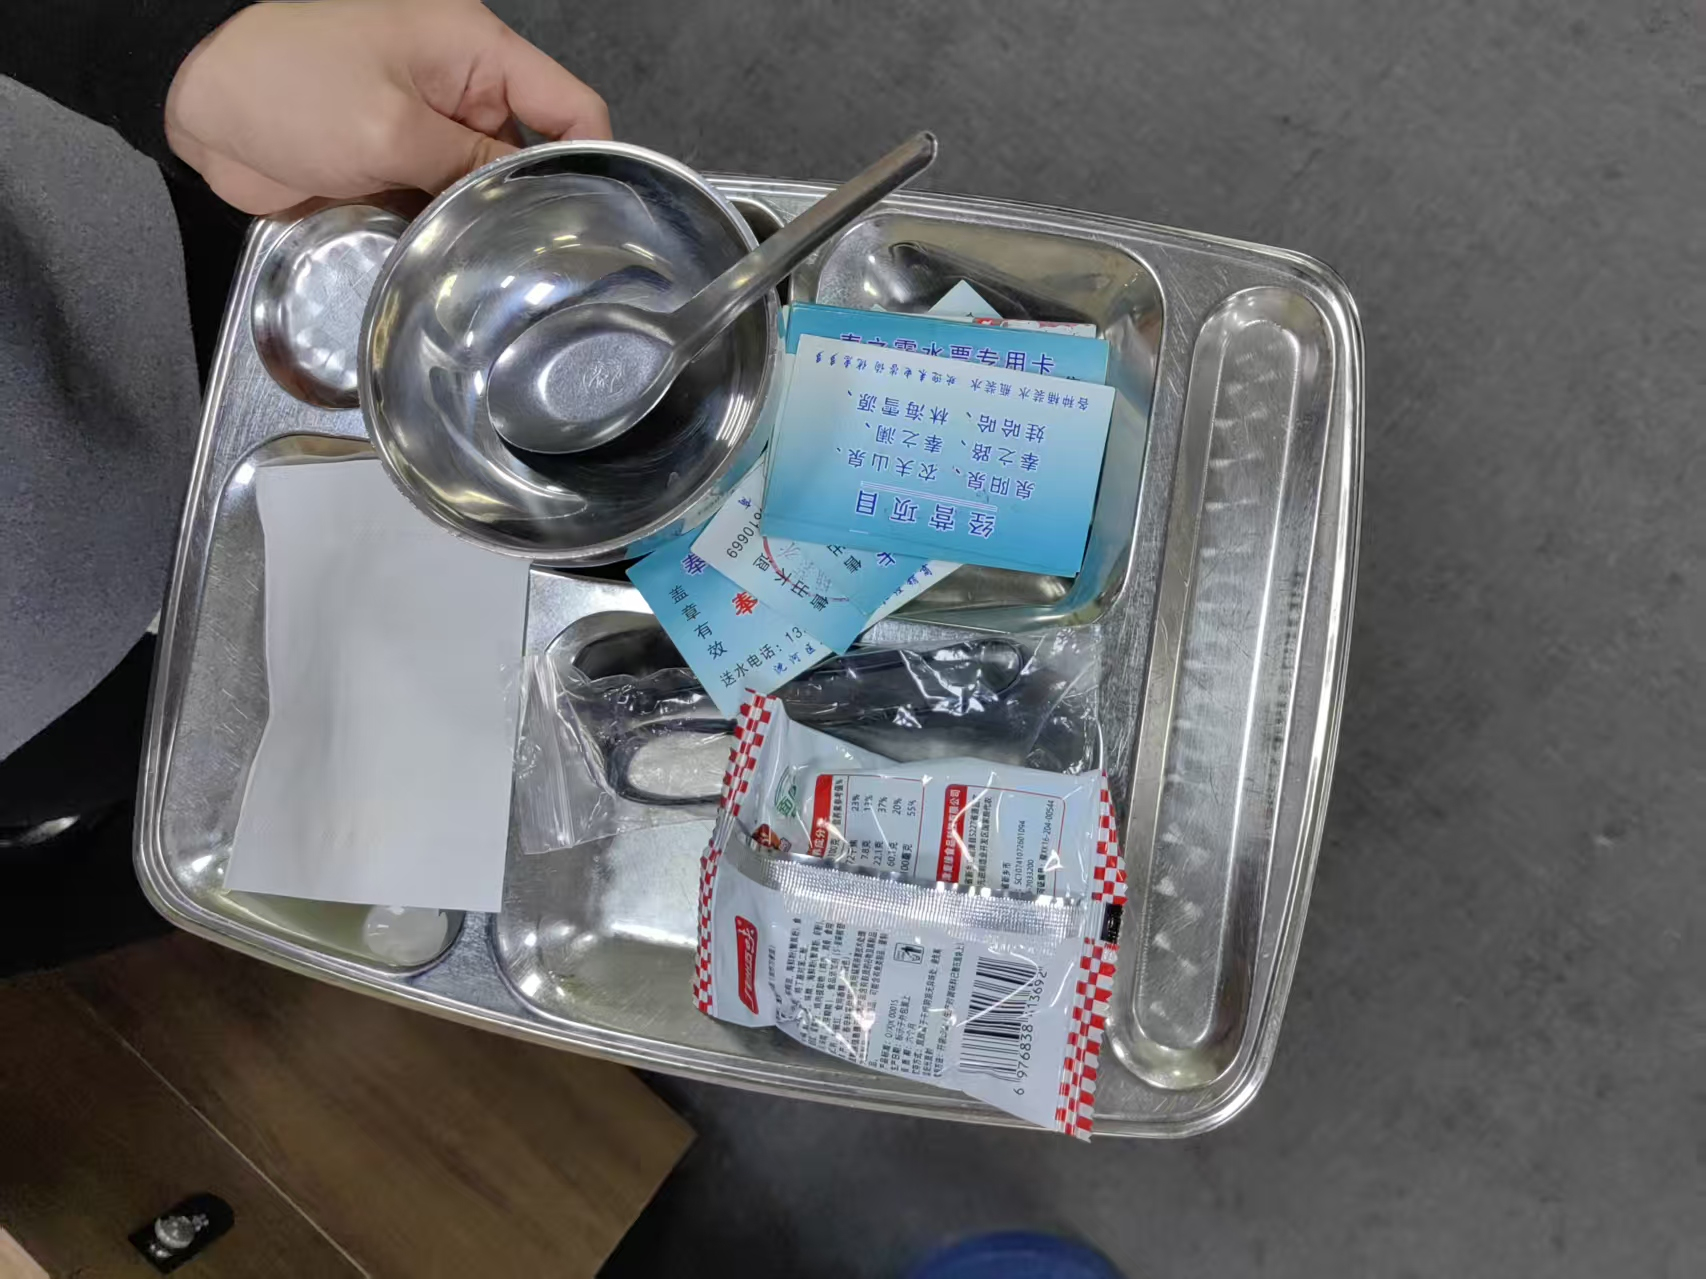moderate: (519, 277, 1133, 1141)
plate: (130, 166, 1369, 1143)
tissue: (222, 460, 530, 918)
